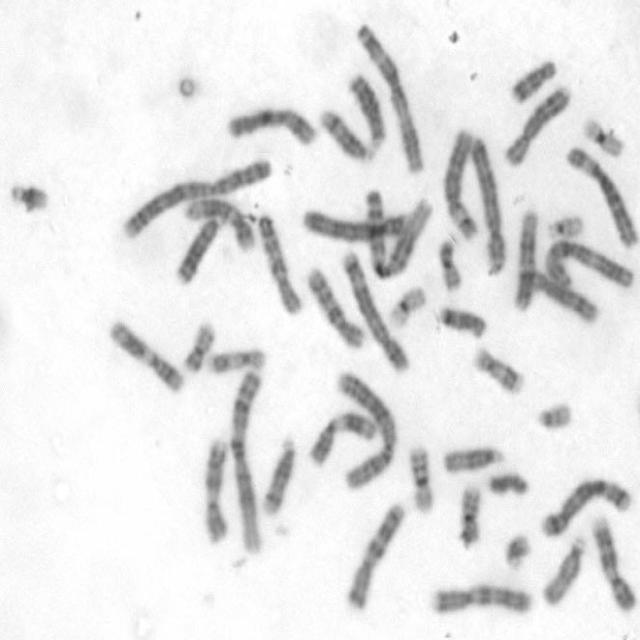A1: (227, 363, 268, 558), (360, 182, 436, 281)
A2: (118, 153, 274, 241), (332, 366, 398, 491)
A3: (351, 18, 427, 176), (541, 236, 635, 290)
B4: (467, 130, 508, 276), (300, 203, 414, 243)
B5: (335, 242, 412, 374), (537, 472, 634, 538)
C10: (300, 260, 368, 352), (254, 208, 304, 317)
C11: (105, 313, 187, 395), (304, 408, 376, 469)
C12: (181, 192, 256, 252), (509, 205, 541, 312)
C6: (563, 138, 637, 248), (437, 124, 480, 240)
C7: (342, 496, 408, 612), (428, 578, 536, 616)
C8: (500, 78, 573, 167), (515, 264, 600, 326)
C9: (587, 509, 638, 615), (199, 433, 232, 546)
D13: (172, 210, 225, 286), (344, 67, 389, 148)
D14: (314, 103, 377, 164), (258, 431, 299, 516)
D15: (537, 529, 590, 609), (440, 440, 505, 475)
E16: (404, 442, 436, 514), (454, 479, 485, 549)
E17: (468, 341, 526, 397), (204, 342, 268, 376)
E18: (505, 52, 559, 104), (433, 300, 489, 341)
F19: (384, 280, 428, 331), (579, 111, 626, 158)
F20: (178, 316, 218, 374), (434, 233, 464, 293)
G21: (4, 172, 52, 214), (499, 527, 534, 572)
G22: (532, 395, 576, 433), (542, 208, 587, 241)
X: (222, 103, 319, 148)
Y: (484, 466, 530, 499)
